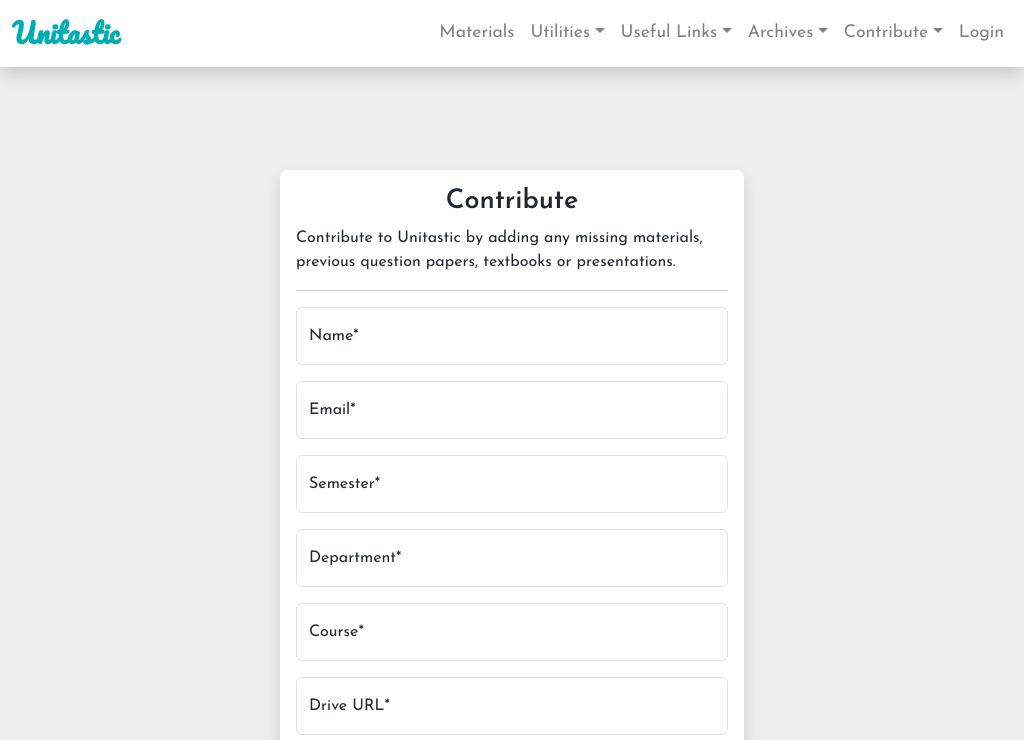
Test: ContributionForm Component › handles form submission error
Fill out required fields
Type "John Doe" into the field labelled "Name*" at (512, 336), box [296,307,728,365]
Type "john@example.com" into the field labelled "Email*" at (512, 410), box [296,381,728,439]
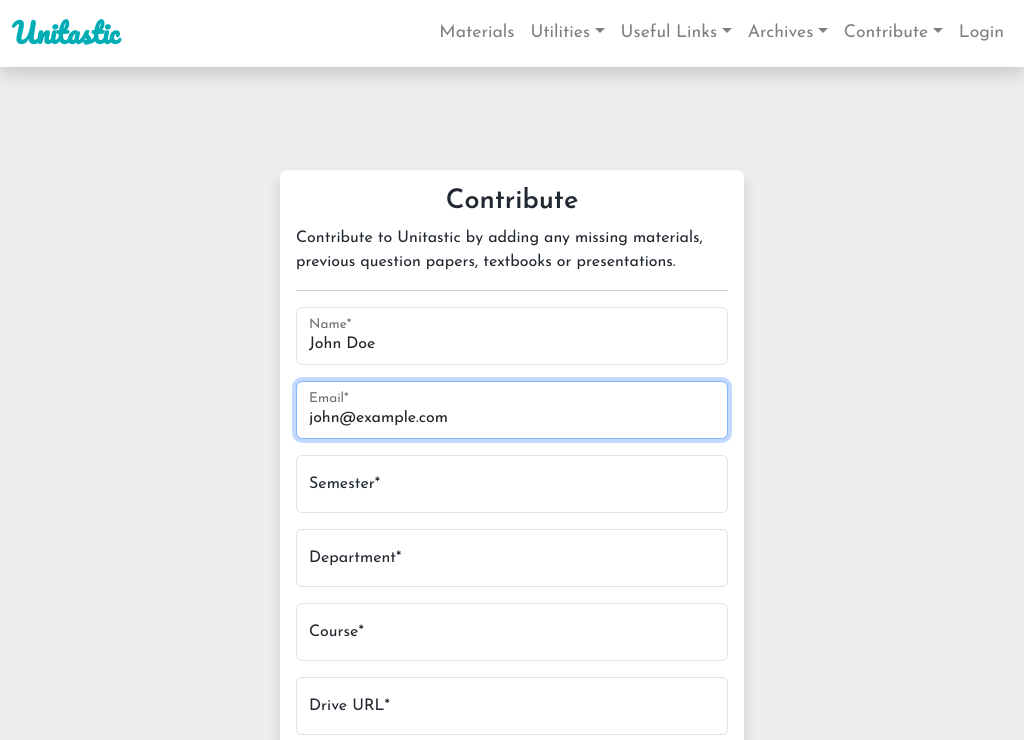
Type "Semester 5" into the field labelled "Semester*" at (512, 484), box [296,455,728,513]
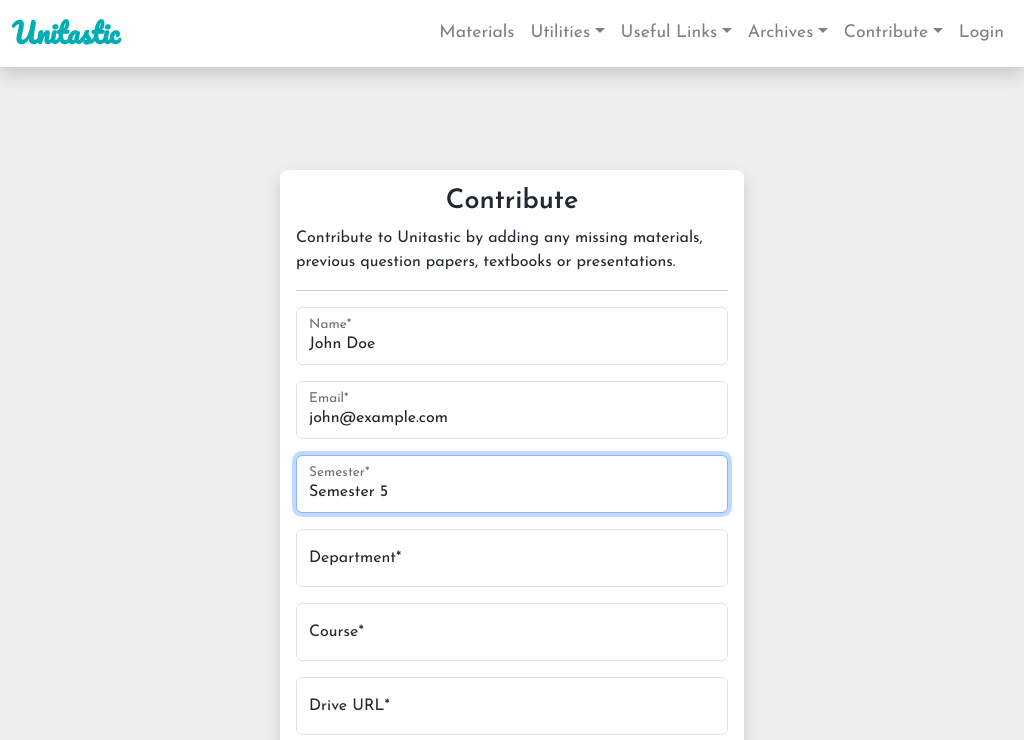
Type "Computer Science" into the field labelled "Department*" at (512, 558), box [296,529,728,587]
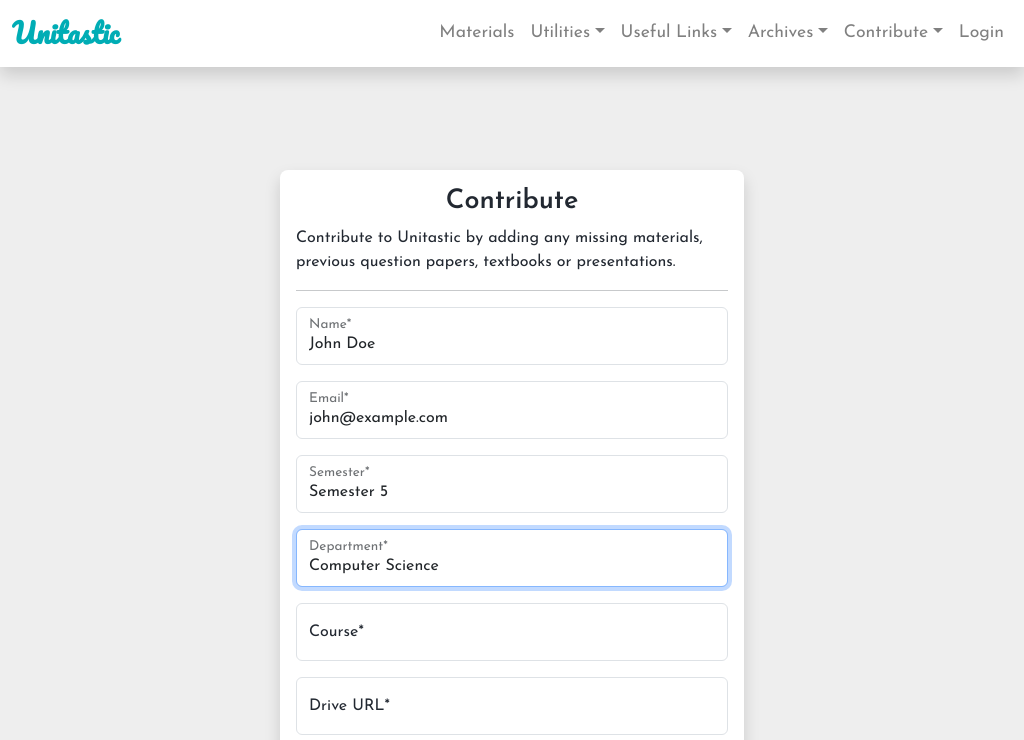
Type "Data Structures" into the field labelled "Course*" at (512, 632), box [296,603,728,661]
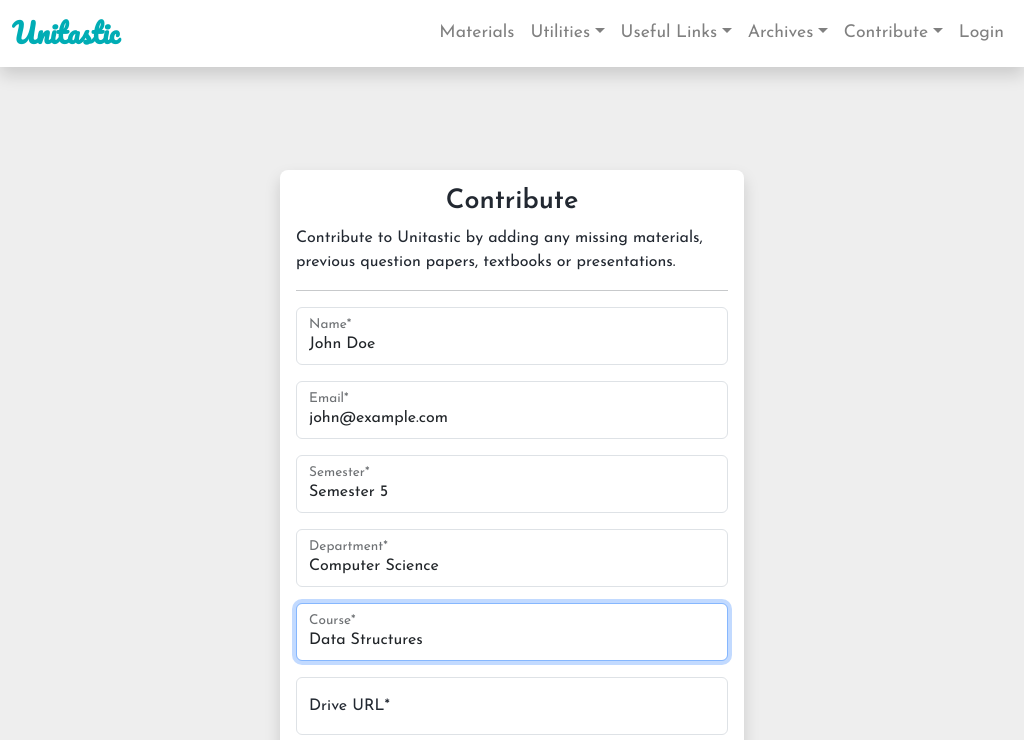
Type "https://drive.google.com/test" into the field labelled "Drive URL*" at (512, 706), box [296,677,728,735]
(page scrolled)
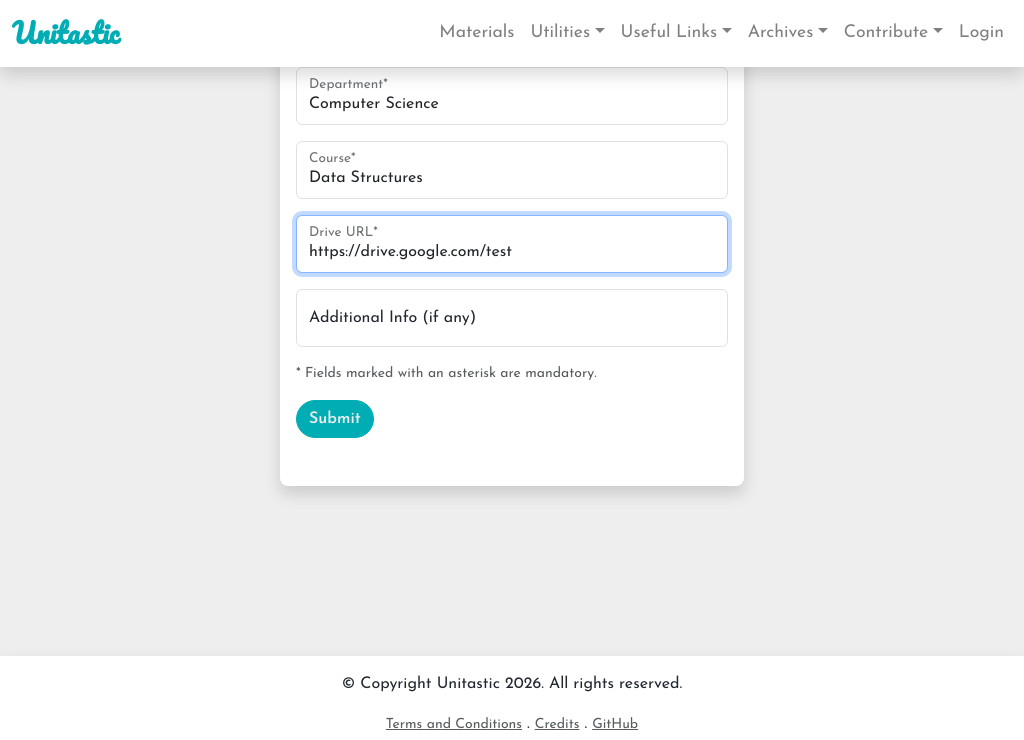
Click the button "Submit" at (335, 419), box [296,400,374,438]
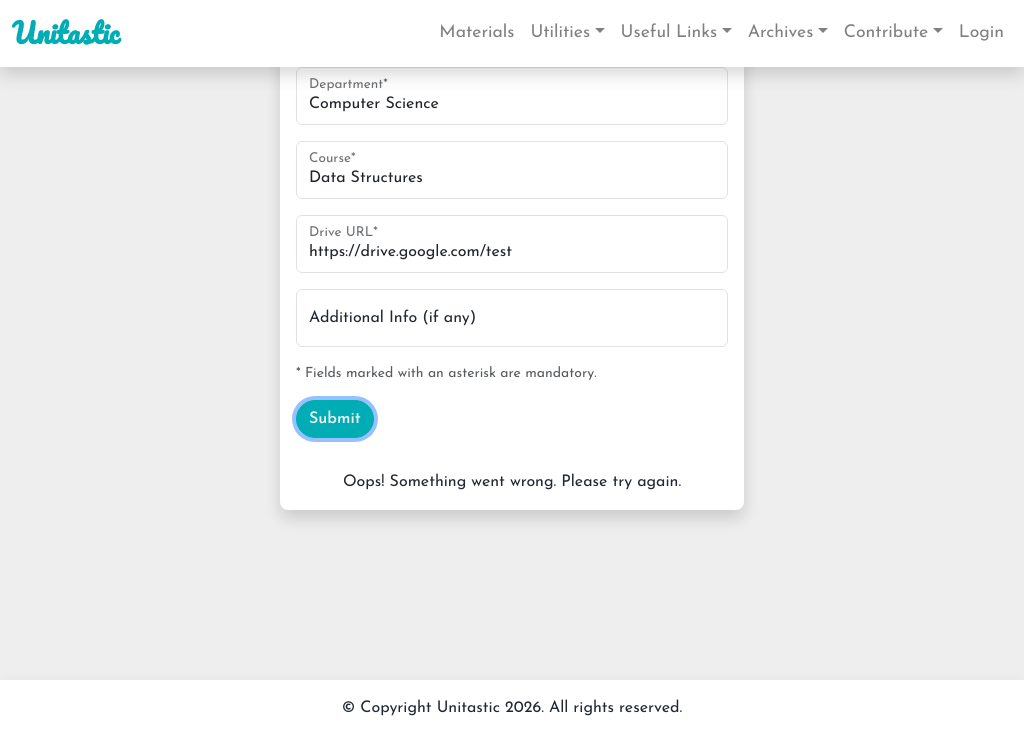
Expected: the text "Oops! Something went wrong. Please try again." is shown, [343,474,681,490]
